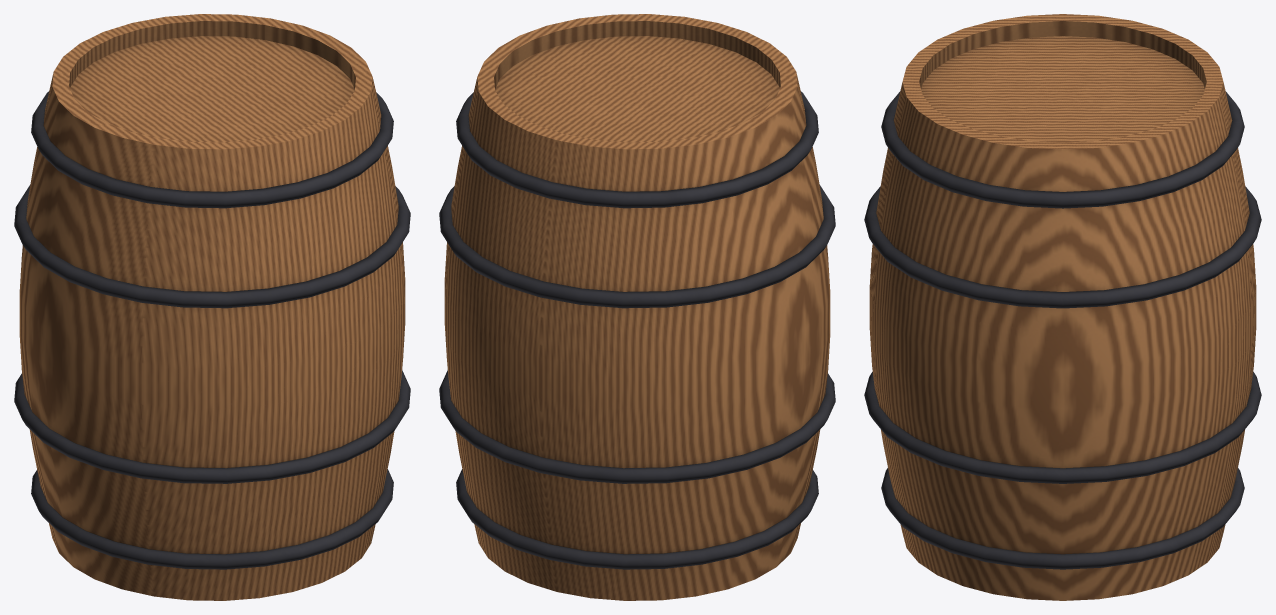
The model's file is Barrel.fbx.
3 views of the same model, side by side, from view 1: azimuth 30°, elevation 25°; view 2: azimuth 150°, elevation 25°; view 3: azimuth 270°, elevation 25° (orthographic).
Visible parts, largest first — view 1: Barrel; view 2: Barrel; view 3: Barrel.
Part boxes in pixels (x1,y1,x2,y2): Barrel: (14,14,410,600); Barrel: (439,14,835,600); Barrel: (864,14,1261,600).
Size of the model in its own units: 1.44 by 1.8 by 1.44.
Materials: 1 (1 with a texture image).
